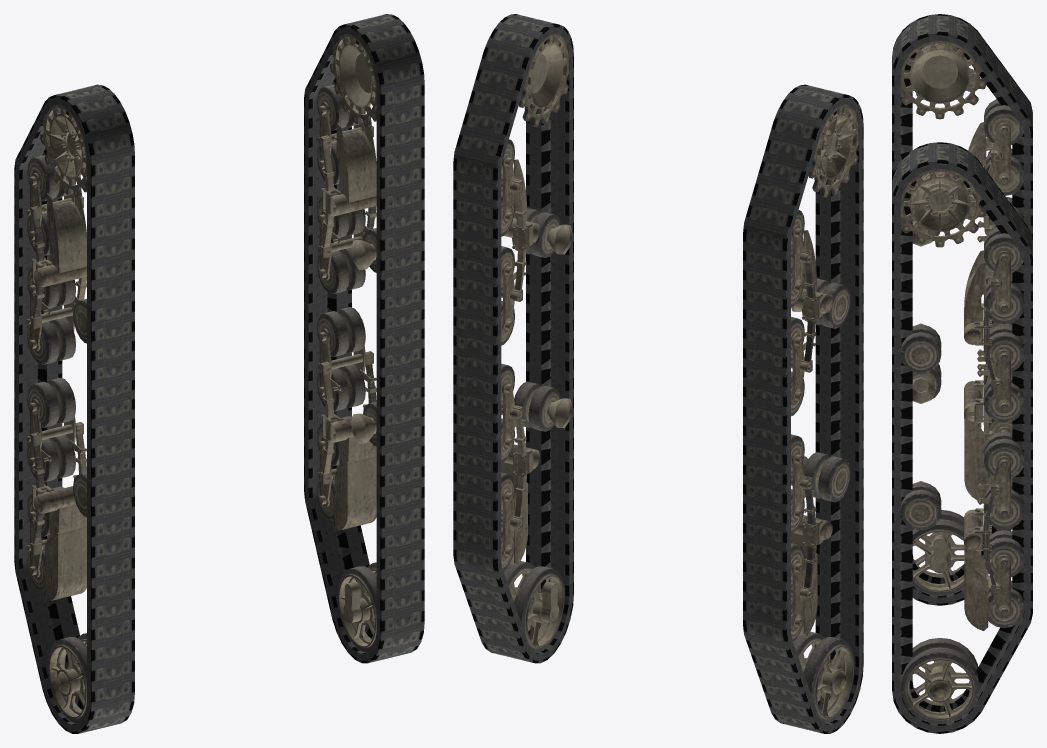
Rendered from Chassis.glb.
3 renders of one model, left to right at view 1: azimuth 30°, elevation 25°; view 2: azimuth 150°, elevation 25°; view 3: azimuth 270°, elevation 25°, orthographic. The views are drawn at different scales.
Visible parts, largest first — view 1: set_0_group_0, set_1_group_0, set_3_group_0, set_2_group_0; view 2: set_1_group_0, set_0_group_0, set_3_group_0, set_2_group_0; view 3: set_3_group_0, set_0_group_0, set_2_group_0, set_1_group_0.
Boxes of the visible parts, x1,y1,x2,y2 form: set_0_group_0: [304, 14, 424, 663]; set_1_group_0: [14, 84, 134, 733]; set_3_group_0: [317, 34, 376, 652]; set_2_group_0: [26, 104, 86, 723]; set_1_group_0: [743, 84, 863, 733]; set_0_group_0: [453, 14, 573, 663]; set_3_group_0: [501, 34, 572, 652]; set_2_group_0: [791, 104, 858, 723]; set_3_group_0: [900, 169, 1024, 723]; set_0_group_0: [892, 142, 1032, 733]; set_2_group_0: [900, 41, 1024, 595]; set_1_group_0: [892, 14, 1032, 605].
Bounding box in the file's own units: 2.3 × 3.94 × 0.8783.
4 materials, 4 textured.
